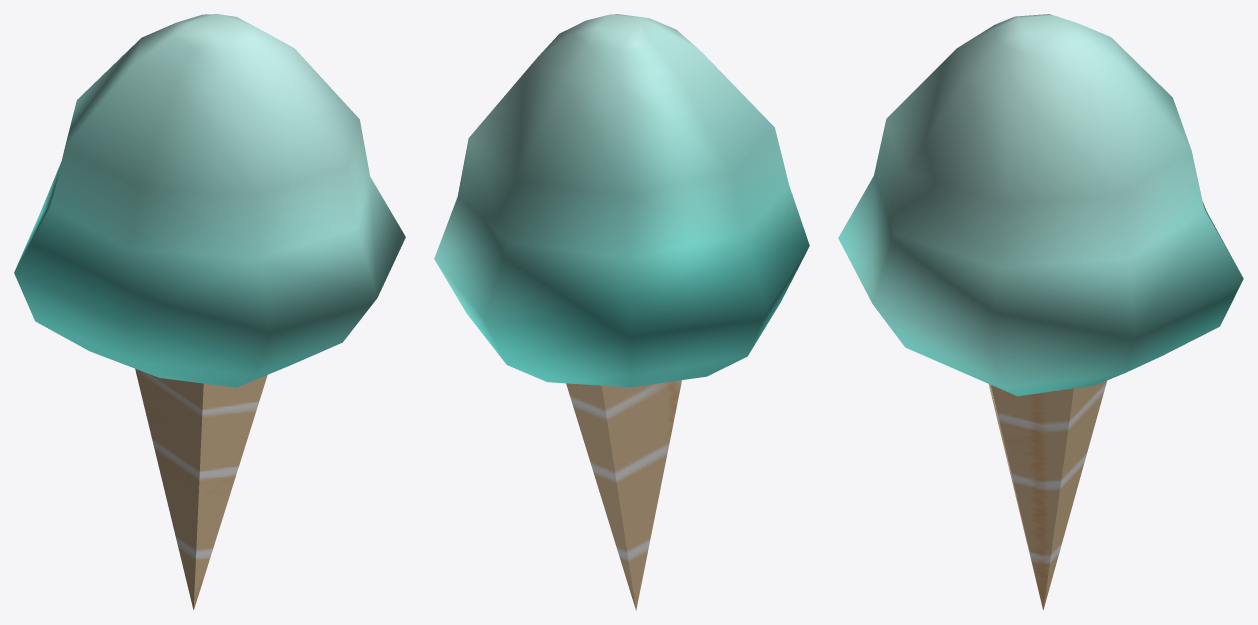
File: CottonCandyBlue_small.fbx
3 views of the same model, side by side, from view 1: azimuth 30°, elevation 25°; view 2: azimuth 150°, elevation 25°; view 3: azimuth 270°, elevation 25° (orthographic). The views are drawn at different scales.
Parts seen in each view (by area): view 1: BlueCottonCandy_small; view 2: BlueCottonCandy_small; view 3: BlueCottonCandy_small.
Part boxes in pixels (box(x1,y1,x2,y2)): BlueCottonCandy_small: box(14, 14, 405, 610); BlueCottonCandy_small: box(434, 14, 809, 610); BlueCottonCandy_small: box(838, 14, 1243, 610).
Size of the model in its own units: 32.49 by 53.02 by 32.68.
Materials: 1 (1 with a texture image).
